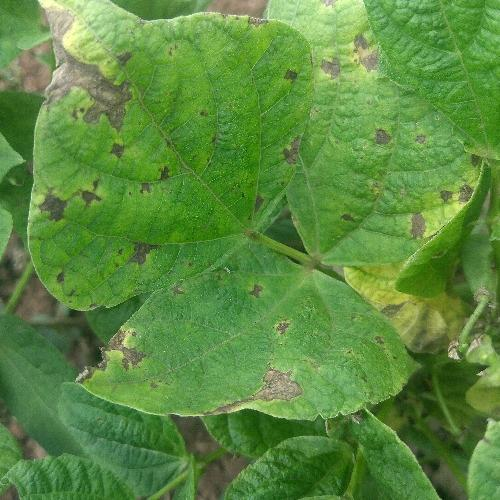hawar: (32, 28, 230, 284), (282, 38, 459, 259), (66, 308, 328, 436)
